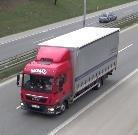car: (99, 12, 117, 23)
truck: (15, 27, 120, 116)
